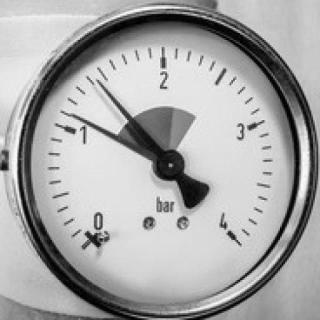gauge: (1, 0, 320, 320), (74, 208, 119, 264), (211, 204, 251, 264), (152, 149, 186, 183), (92, 74, 106, 90), (68, 110, 82, 124)
